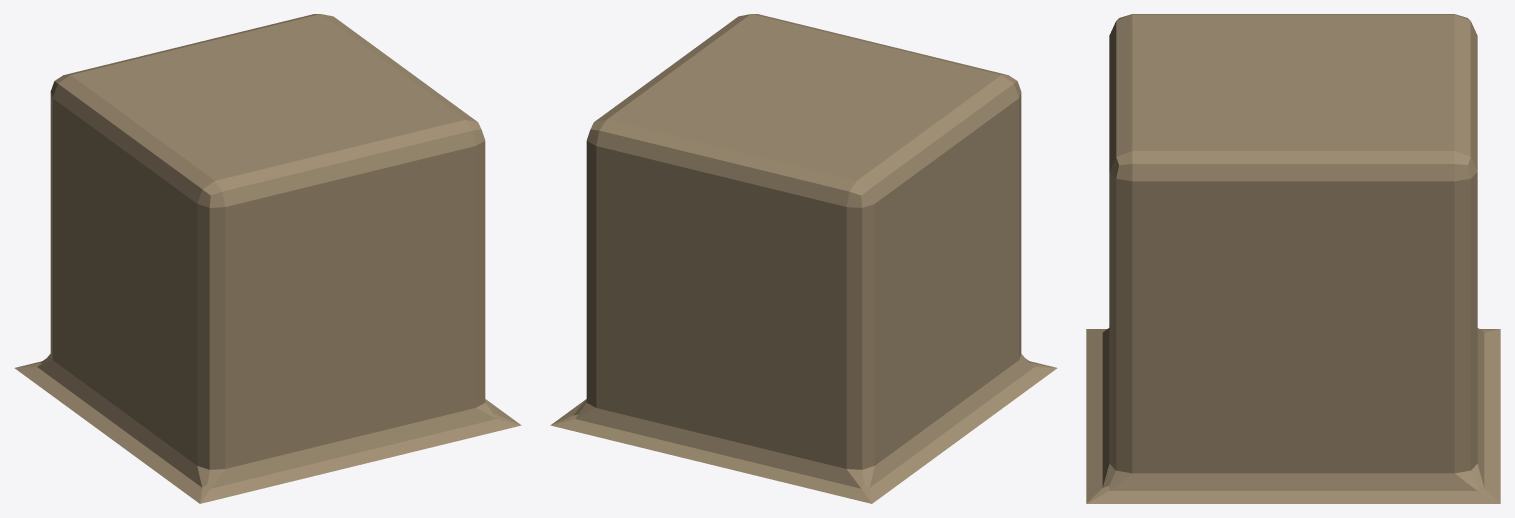
The model's file is crate.glb.
3 renders of one model, left to right at view 1: azimuth 30°, elevation 25°; view 2: azimuth 150°, elevation 25°; view 3: azimuth 270°, elevation 25°, orthographic. The views are drawn at different scales.
Visible parts, largest first — view 1: crate; view 2: crate; view 3: crate.
Part boxes in pixels (bbox=[...]): crate: bbox=[14, 14, 521, 503]; crate: bbox=[550, 14, 1057, 503]; crate: bbox=[1086, 14, 1500, 503].
Bounding box in the file's own units: 0.9 × 0.8 × 0.9.
